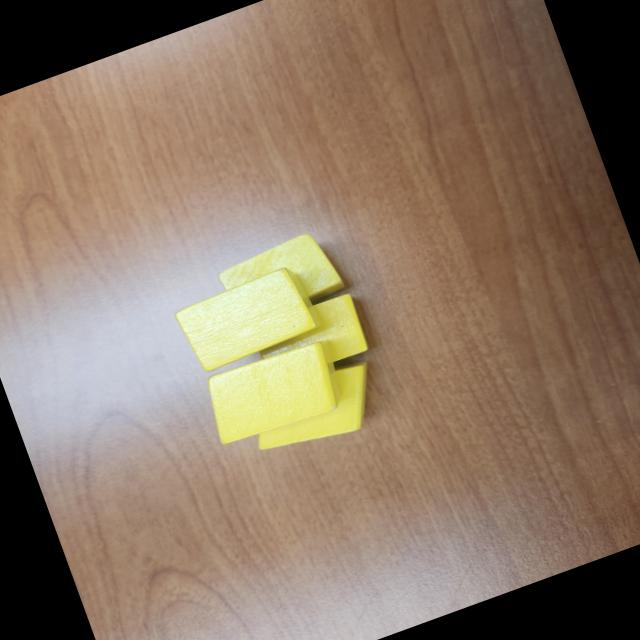yellow: (196, 332, 356, 452), (169, 260, 327, 378), (237, 356, 393, 466), (212, 225, 350, 330), (248, 290, 372, 388)
